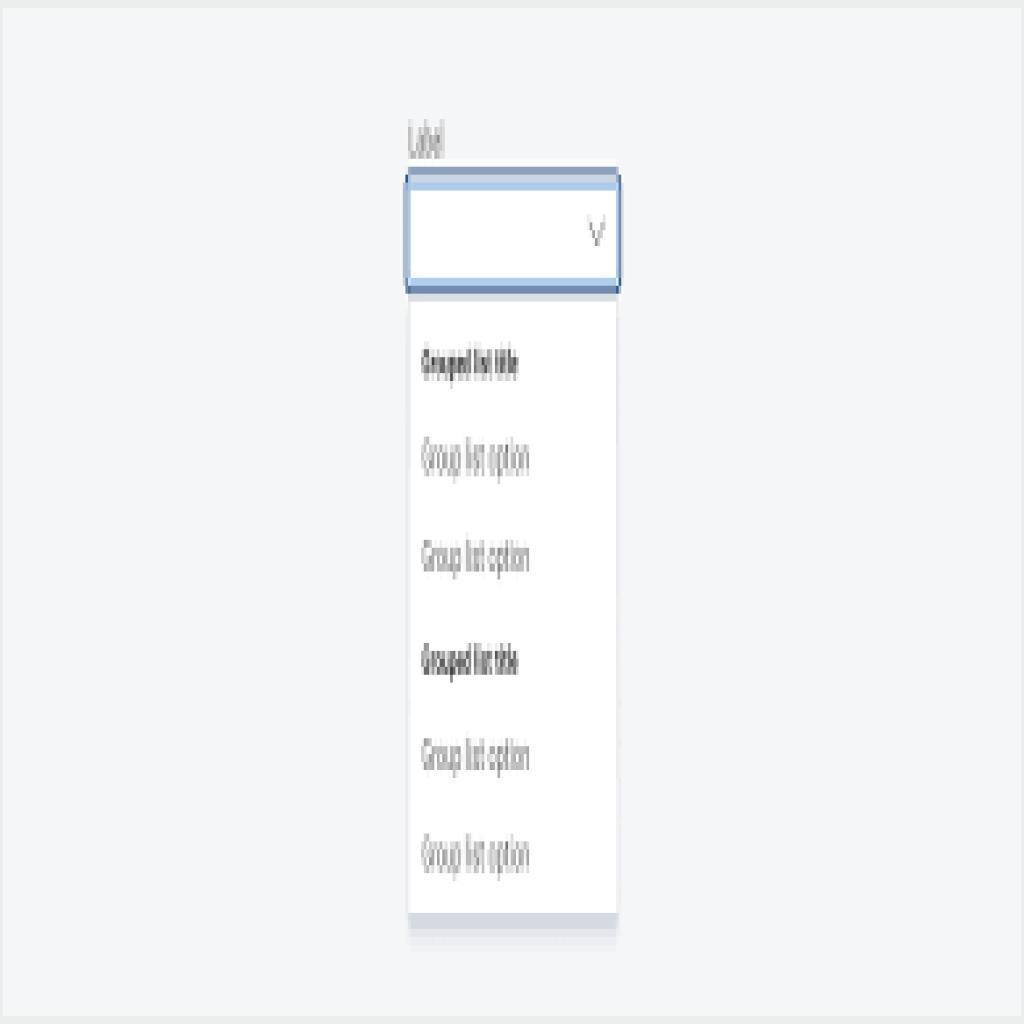dropdown: (402, 167, 623, 296)
